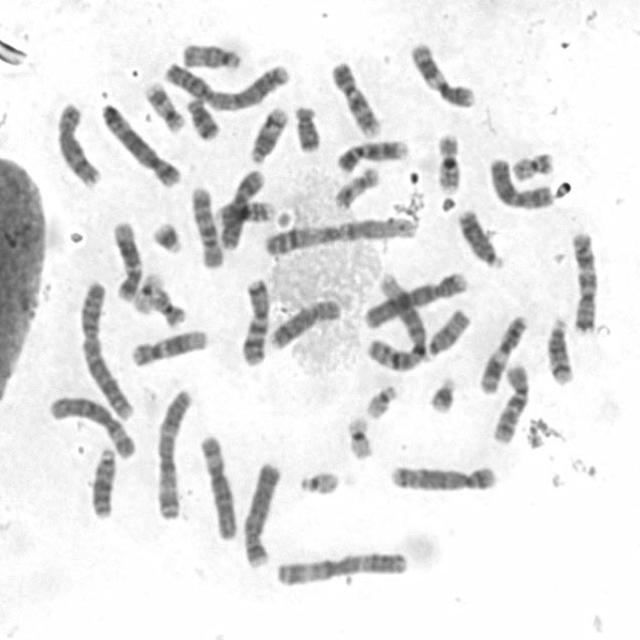A1: (363, 270, 427, 373), (263, 217, 419, 258)
A2: (78, 278, 136, 424), (162, 62, 294, 112)
A3: (154, 384, 196, 522), (271, 550, 410, 589)
B4: (361, 266, 468, 333), (240, 457, 283, 572)
B5: (99, 97, 186, 191), (385, 461, 502, 498)
C10: (489, 361, 532, 449), (190, 186, 226, 271)
C11: (406, 41, 478, 112), (478, 312, 526, 395)
C12: (128, 329, 209, 368), (110, 220, 144, 305)
C6: (48, 392, 138, 462), (200, 432, 240, 540)
C7: (568, 233, 600, 334), (241, 277, 273, 368)
C8: (55, 102, 101, 189), (269, 299, 339, 351)
C9: (328, 61, 381, 138), (334, 139, 407, 175)
D13: (454, 208, 506, 274), (89, 447, 118, 522)
D14: (249, 104, 290, 164), (544, 318, 574, 386)
D15: (422, 304, 470, 364), (182, 40, 242, 70)
E16: (432, 130, 462, 193), (211, 200, 274, 228)
E17: (146, 79, 186, 134), (333, 166, 379, 208)
E18: (184, 96, 223, 143), (292, 104, 324, 154)
F19: (346, 412, 375, 462), (132, 272, 164, 316)
F20: (152, 289, 188, 331), (512, 150, 556, 182)
G21: (152, 222, 186, 259), (428, 372, 456, 414)
G22: (363, 382, 397, 420), (297, 470, 341, 497)
X: (220, 168, 266, 252), (490, 155, 554, 208)
